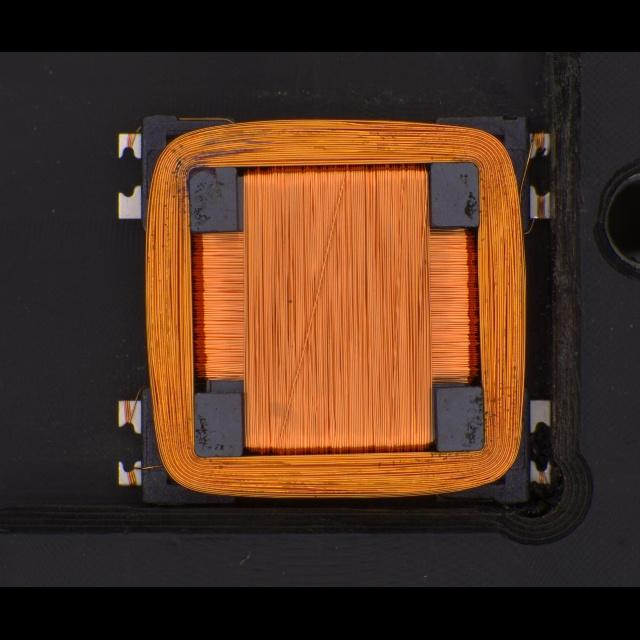Winding_Z: (133, 114, 531, 502)
